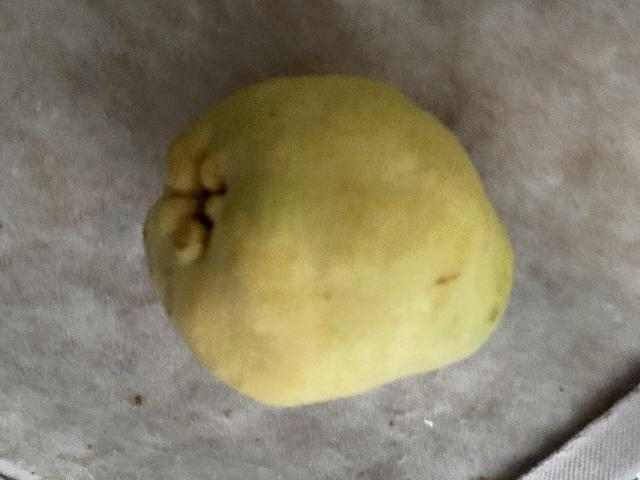Organik: (149, 67, 527, 405)
